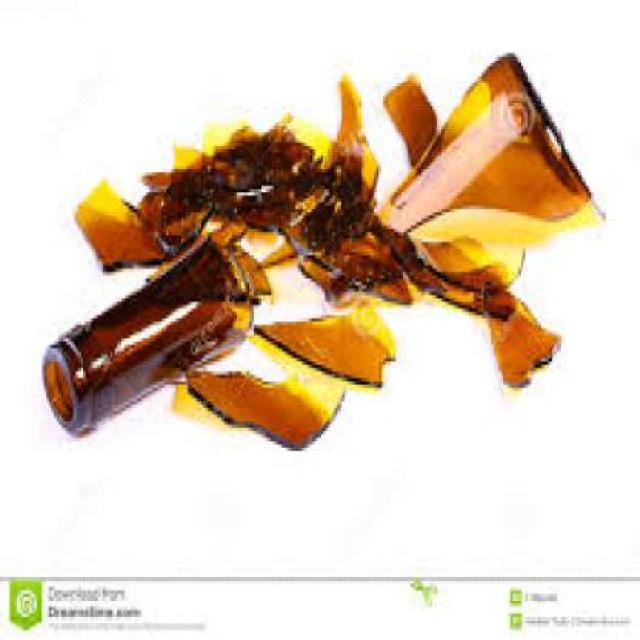kaca: (377, 51, 603, 240), (41, 232, 252, 434), (132, 112, 325, 238), (254, 71, 377, 266), (283, 203, 445, 302), (246, 295, 394, 391), (183, 362, 342, 448), (74, 177, 211, 266), (478, 278, 560, 384), (411, 232, 523, 288), (382, 70, 436, 172), (211, 216, 269, 296)
